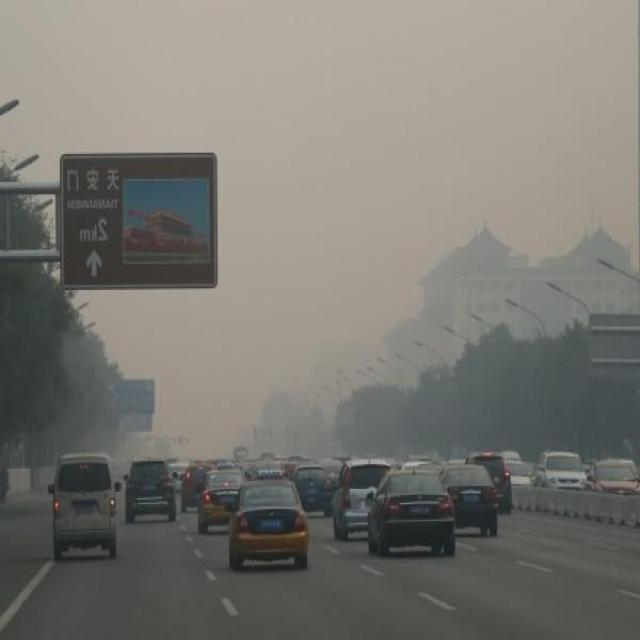Car: (368, 461, 458, 554), (227, 478, 310, 570), (328, 458, 393, 540), (438, 464, 500, 537), (123, 456, 176, 524), (197, 469, 247, 534), (290, 463, 334, 514), (534, 450, 586, 490), (585, 456, 640, 493), (180, 464, 211, 512), (242, 461, 286, 483), (505, 459, 534, 487), (400, 458, 440, 472), (170, 459, 190, 483)
Van: (47, 452, 119, 559)
